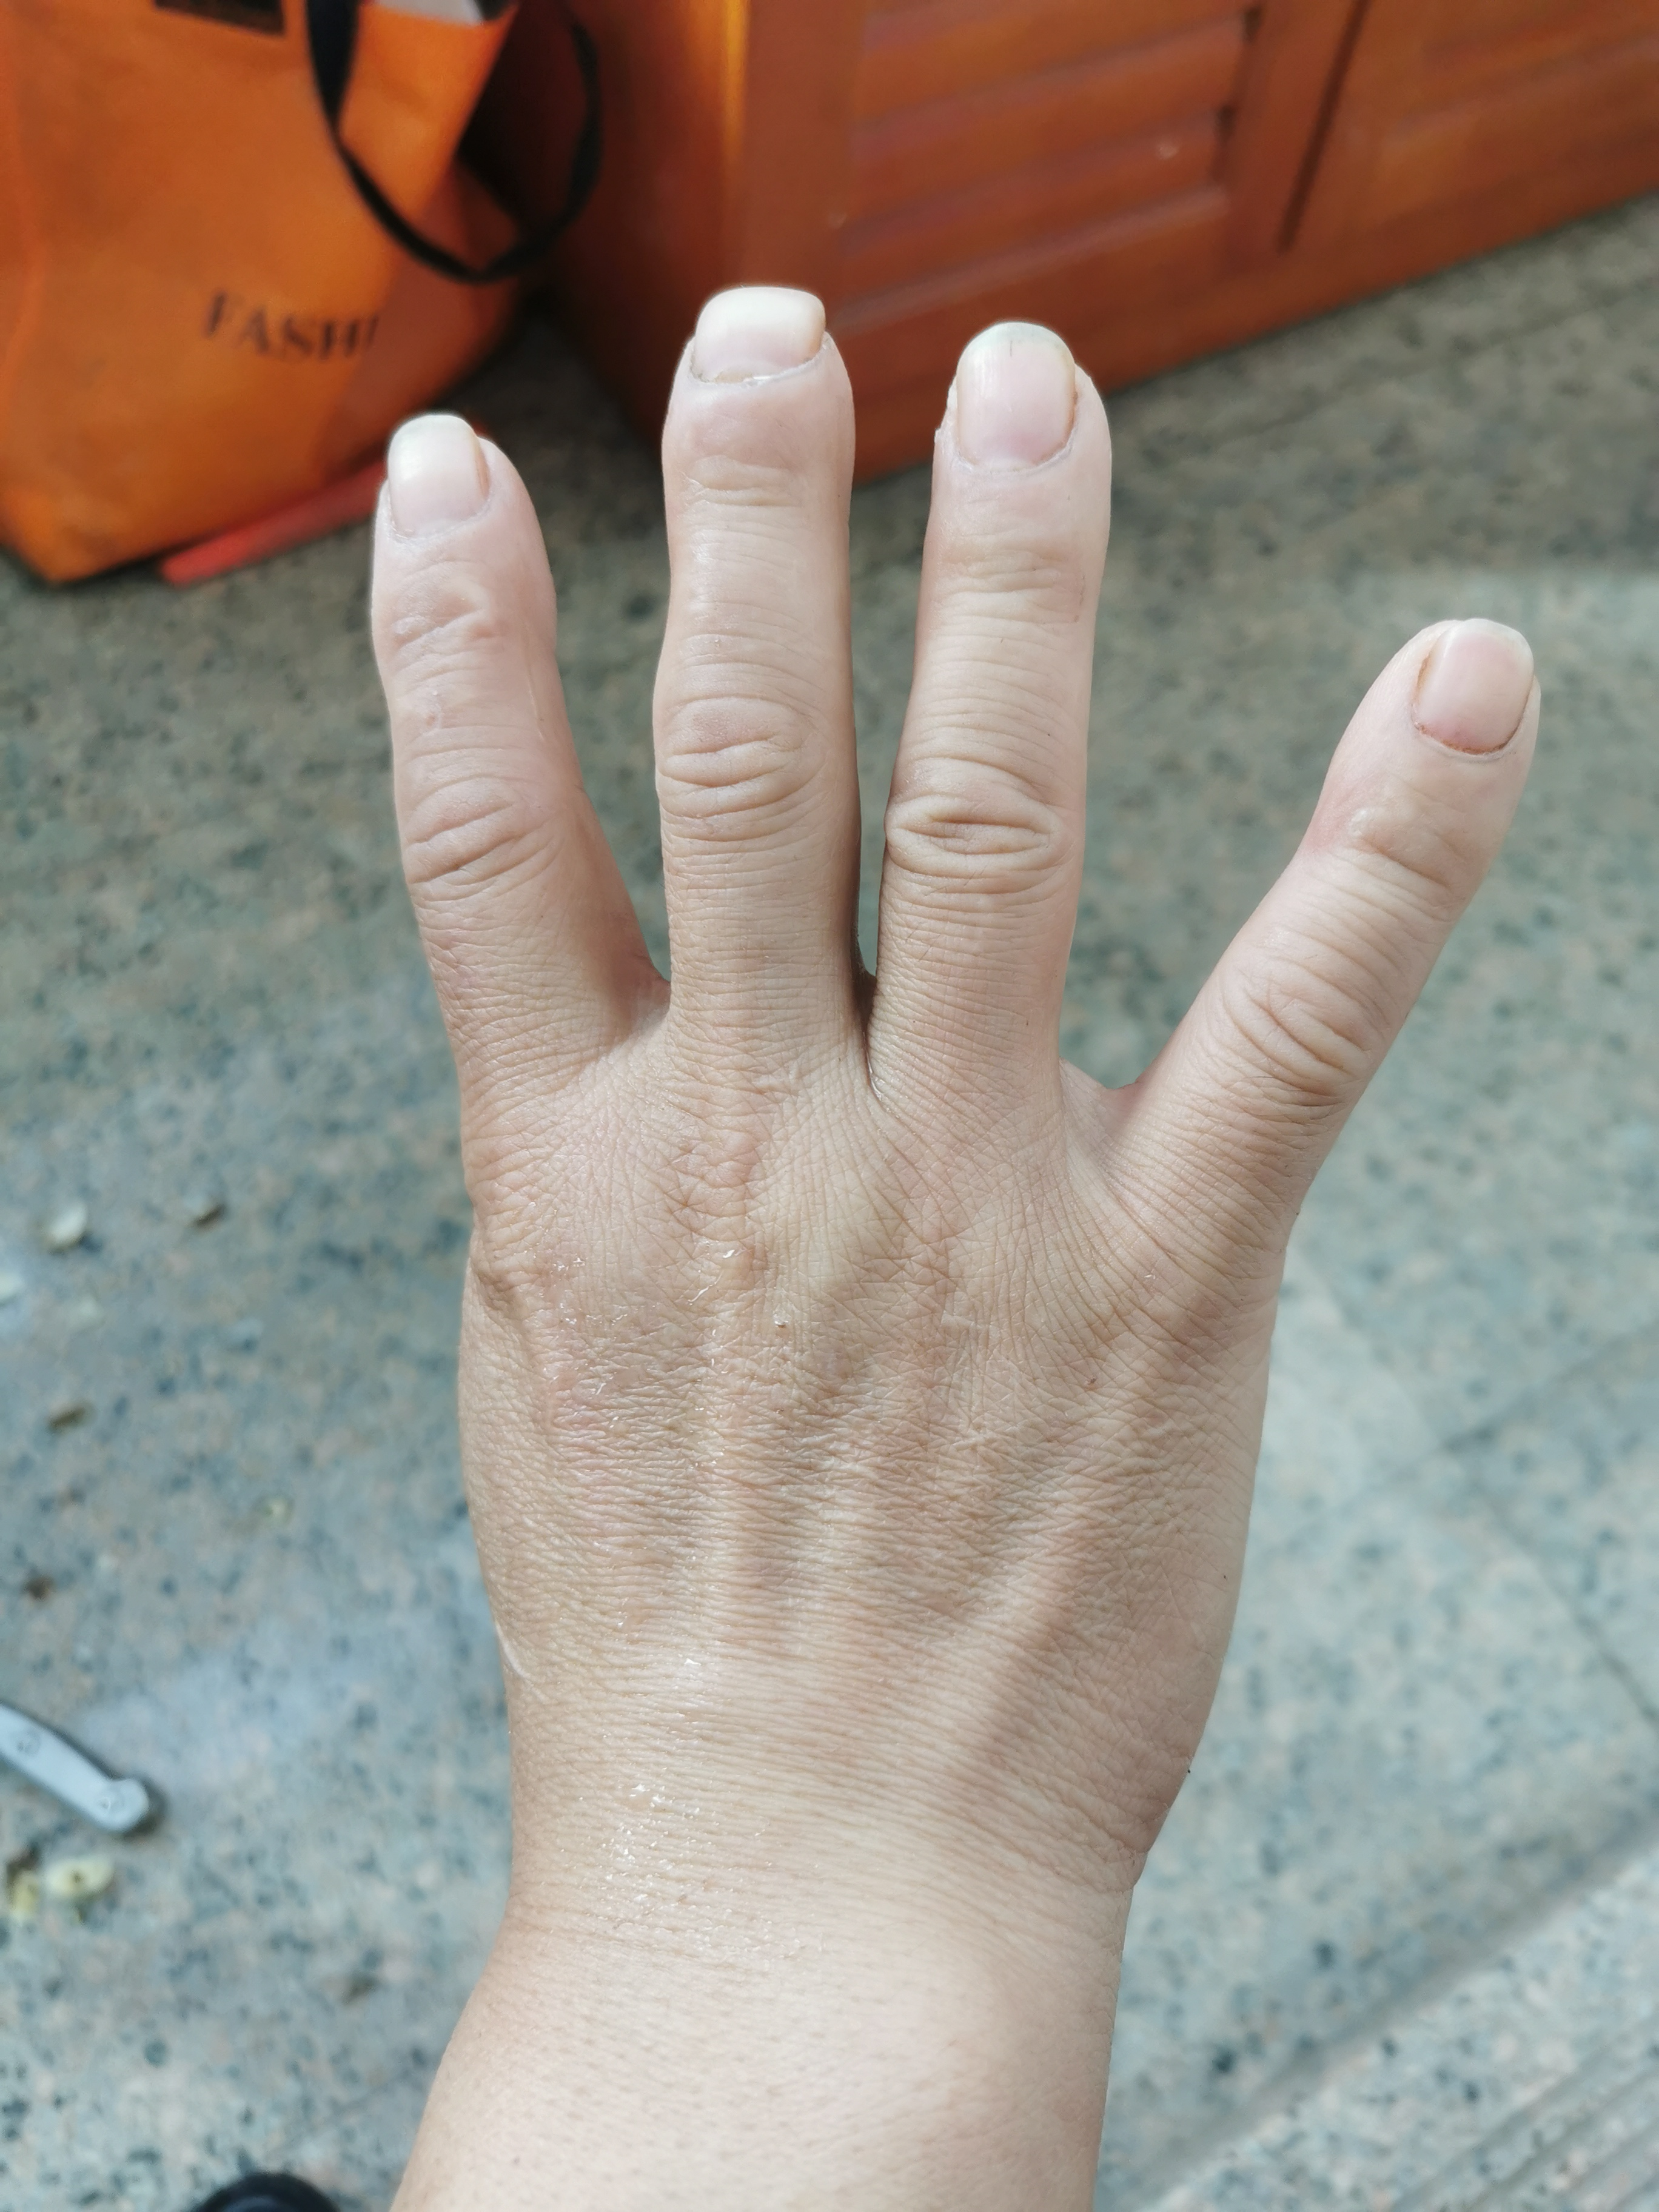right: (399, 303, 1549, 1791)
